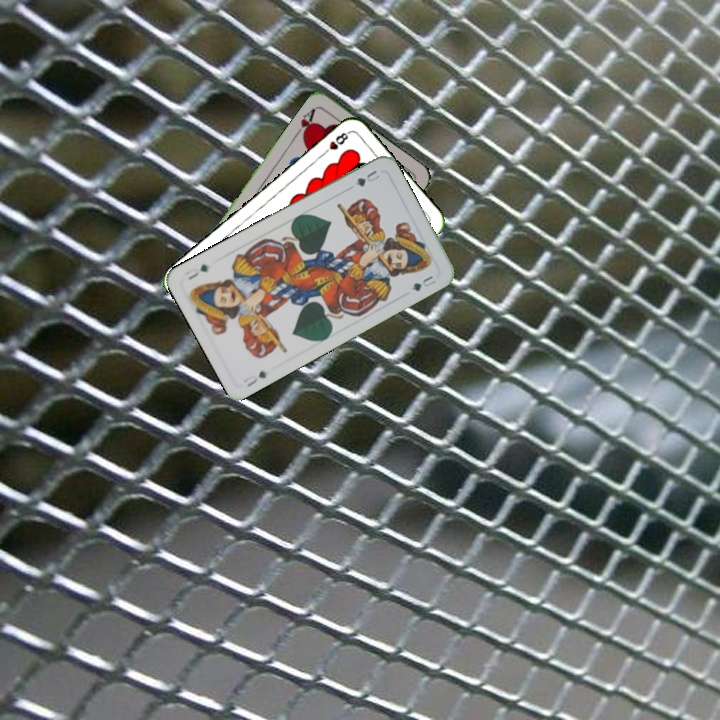GU: (351, 166, 382, 189), (240, 367, 269, 389)
H8: (318, 127, 352, 158)
HA: (290, 104, 318, 141)
